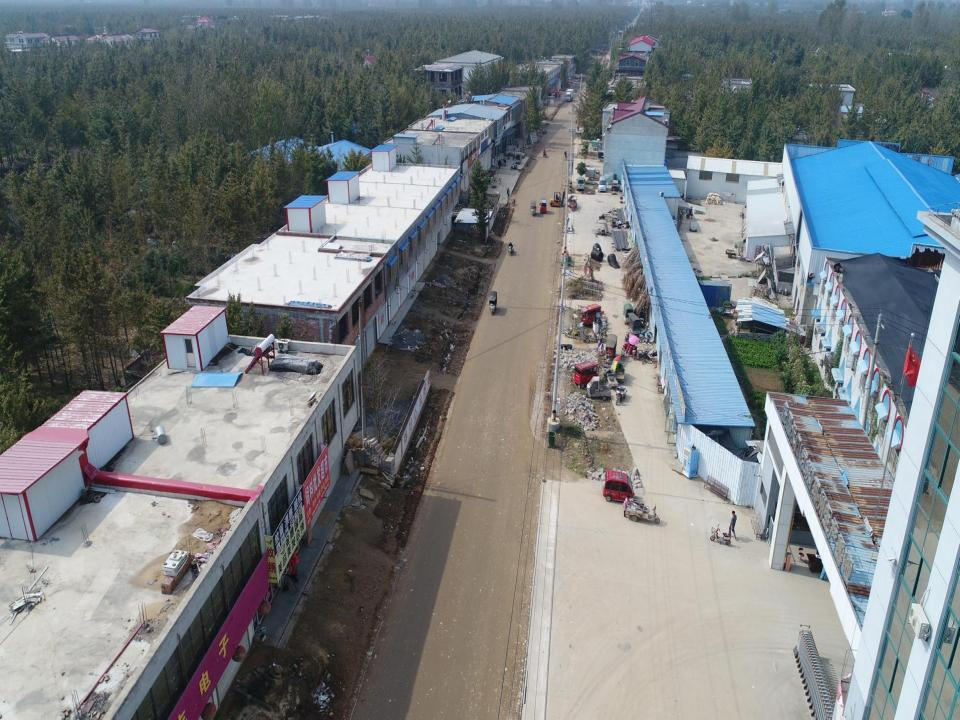car: (598, 175, 607, 193)
truck: (584, 166, 603, 181), (564, 88, 574, 102)
van: (576, 177, 586, 190)
